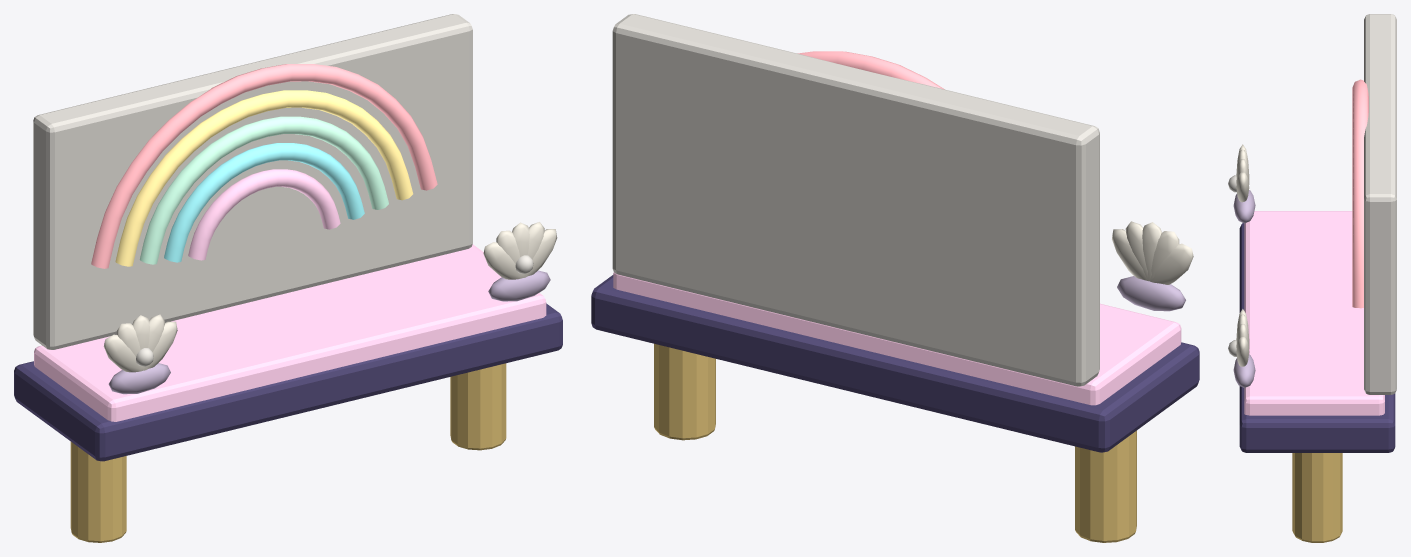
The model's file is pearl_shell_bench.glb.
3 views of the same model, side by side, from view 1: azimuth 30°, elevation 25°; view 2: azimuth 150°, elevation 25°; view 3: azimuth 270°, elevation 25° (orthographic). The views are drawn at different scales.
Parts seen in each view (by area): view 1: pearl_shell_bench.001; view 2: pearl_shell_bench.001; view 3: pearl_shell_bench.001.
Boxes of the visible parts, x1,y1,x2,y2 form: pearl_shell_bench.001: [14, 14, 562, 542]; pearl_shell_bench.001: [591, 14, 1199, 542]; pearl_shell_bench.001: [1228, 14, 1396, 542].
Size of the model in its own units: 8 by 6.54 by 2.82.
